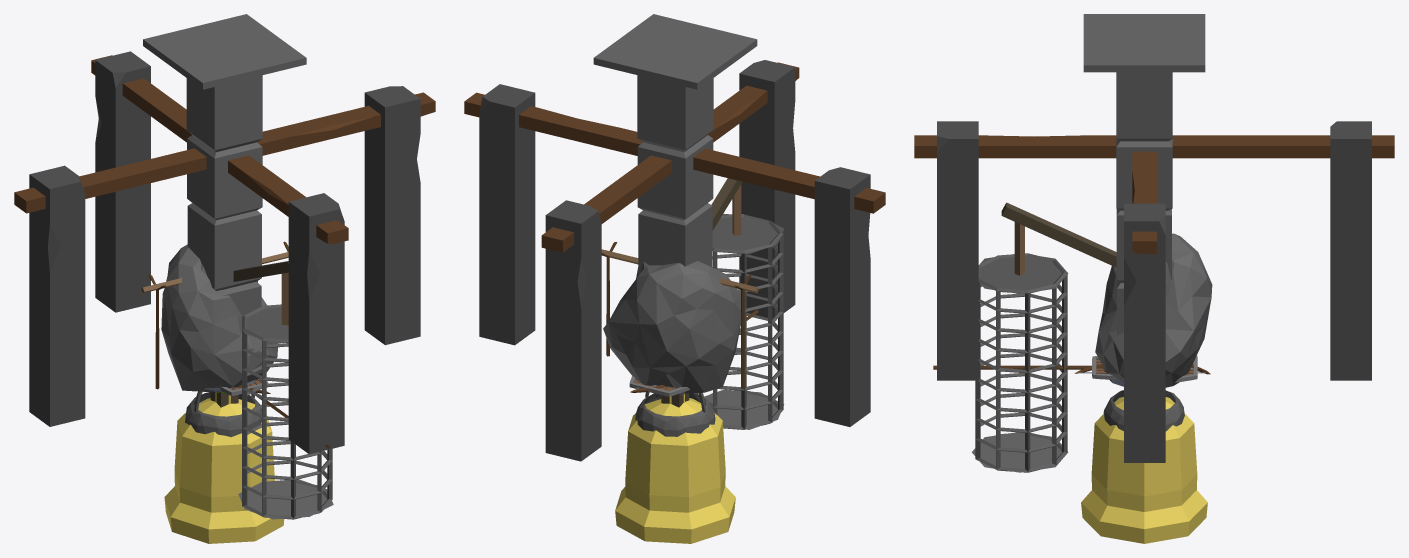
File: props (1).fbx
3 views of the same model, side by side, from view 1: azimuth 30°, elevation 25°; view 2: azimuth 150°, elevation 25°; view 3: azimuth 270°, elevation 25° (orthographic).
Visible parts, largest first — view 1: bell02, pillar01, cage01, bell01, rock01, pot01, pot_hanger01; view 2: bell02, pillar01, rock01, bell01, cage01, pot01, pot_hanger01; view 3: bell02, cage01, pillar01, bell01, rock01, pot01.
Boxes of the visible parts, <box> form: bell02: <box>14,51,435,454</box>; pillar01: <box>143,14,306,391</box>; cage01: <box>210,261,333,519</box>; bell01: <box>164,392,284,543</box>; rock01: <box>161,244,277,392</box>; pot01: <box>185,391,261,437</box>; pot_hanger01: <box>141,241,288,389</box>; bell02: <box>464,60,885,461</box>; pillar01: <box>593,14,757,275</box>; rock01: <box>603,261,740,393</box>; bell01: <box>615,394,735,543</box>; cage01: <box>661,178,784,429</box>; pot01: <box>635,392,715,436</box>; pot_hanger01: <box>601,242,758,389</box>; bell02: <box>914,121,1394,462</box>; cage01: <box>972,202,1116,472</box>; pillar01: <box>1083,14,1205,379</box>; bell01: <box>1081,397,1207,543</box>; rock01: <box>1095,233,1212,387</box>; pot01: <box>1103,390,1184,431</box>.
Bounding box in the file's own units: 520 × 571 × 520.
